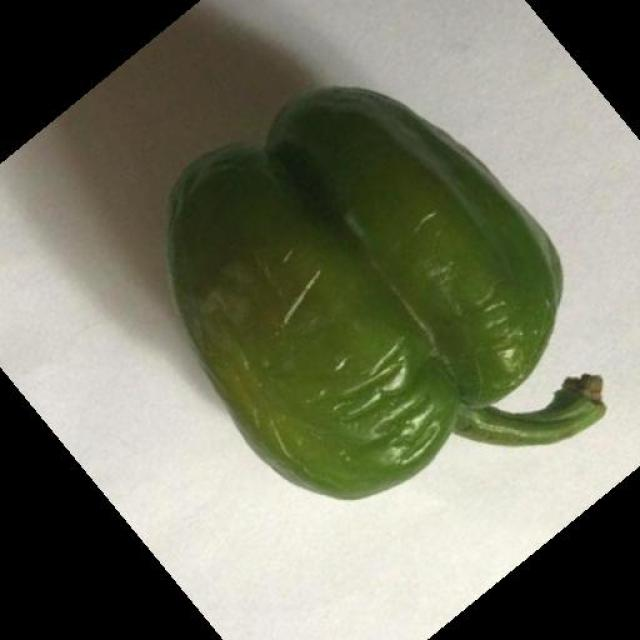Stale_Capsicum: (163, 118, 588, 465)
